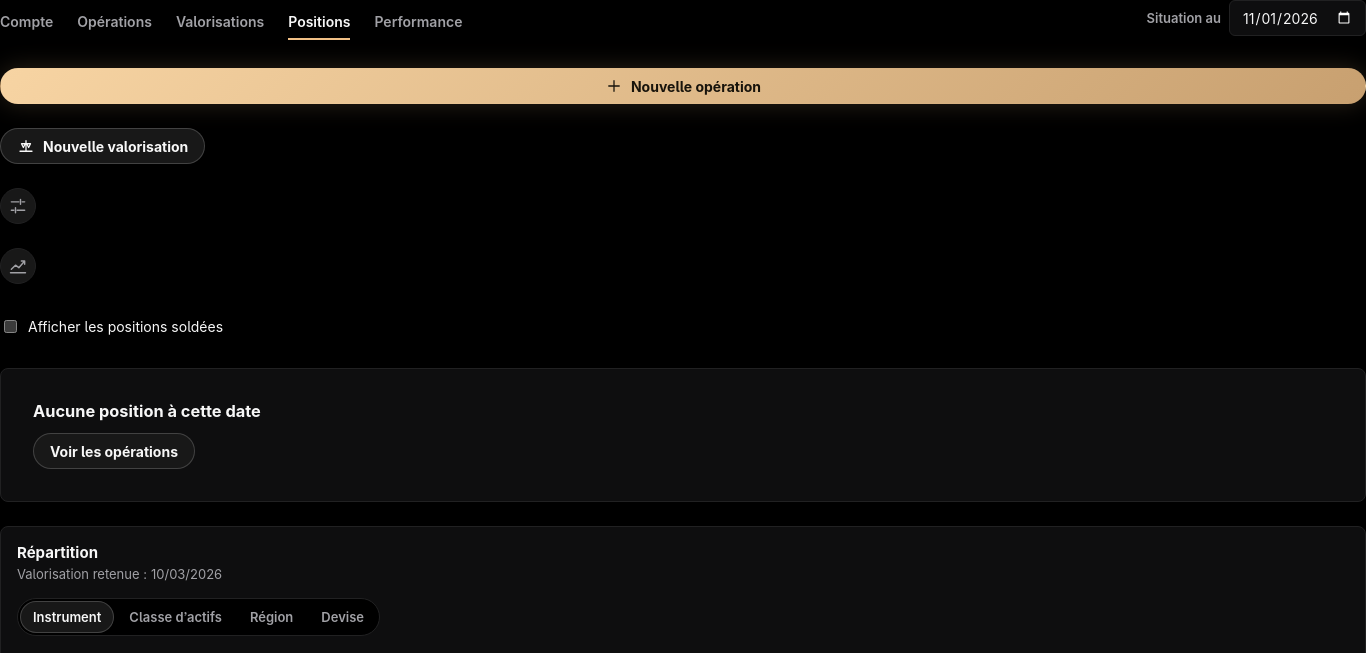
Test: PortfolioAccountPage › opens a new valuation from the header on the Valorisations tab
expect the heading "Aucune position à cette date" is shown: met, box x1=33 y1=401 x2=261 y2=421
Click the button "Nouvelle valorisation": x=103, y=146 x1=0 y1=128 x2=205 y2=164
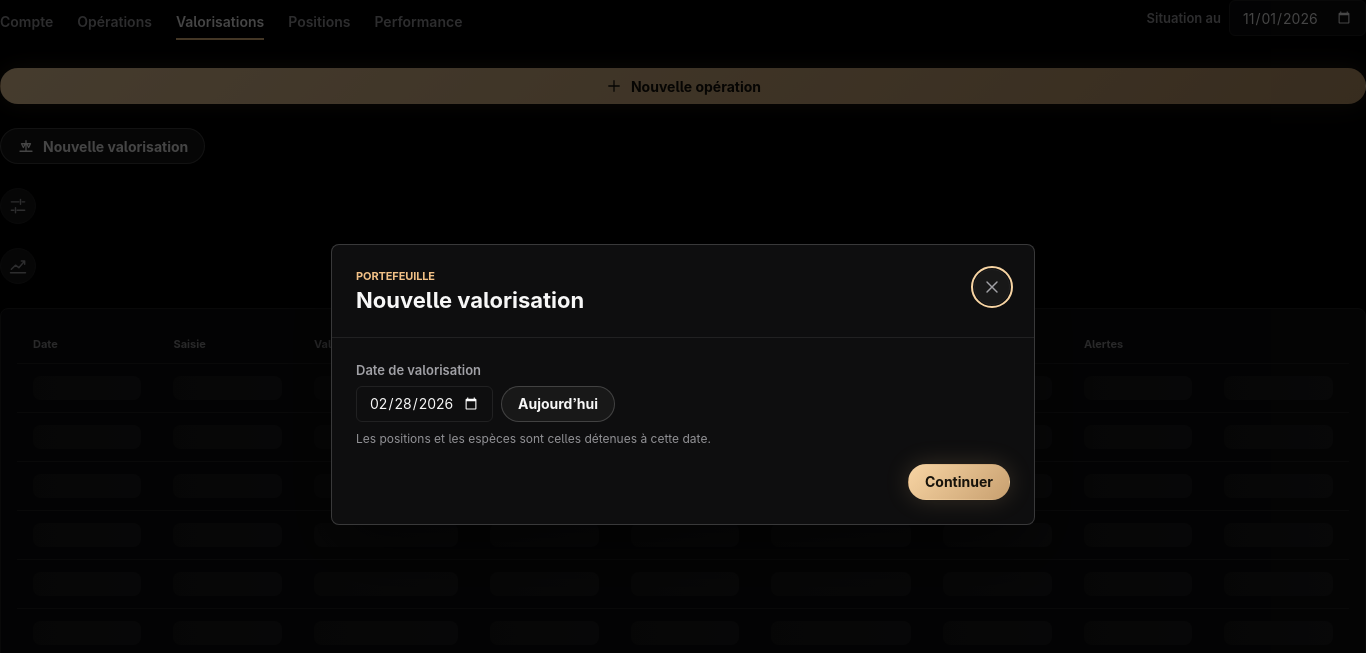
expect the date field labelled "Date de valorisation" holds "2026-02-28": met, box x1=356 y1=386 x2=493 y2=422
Press Escape
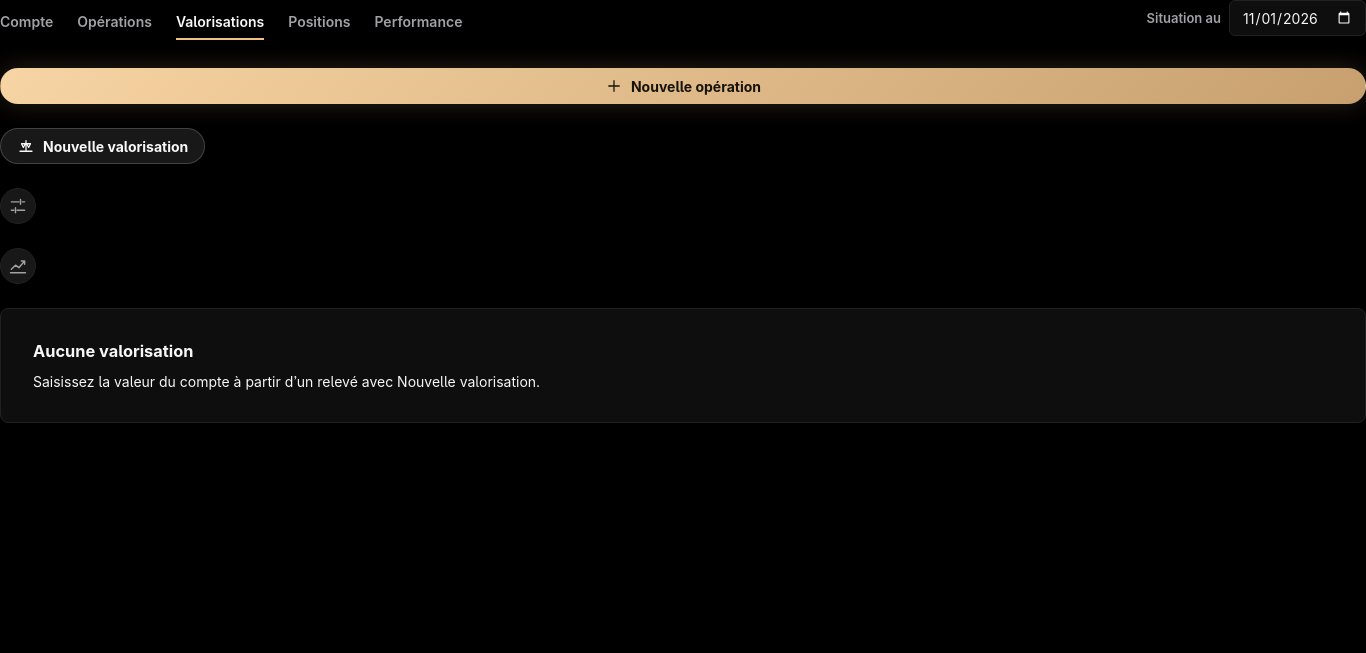
expect the dialog is gone: met
